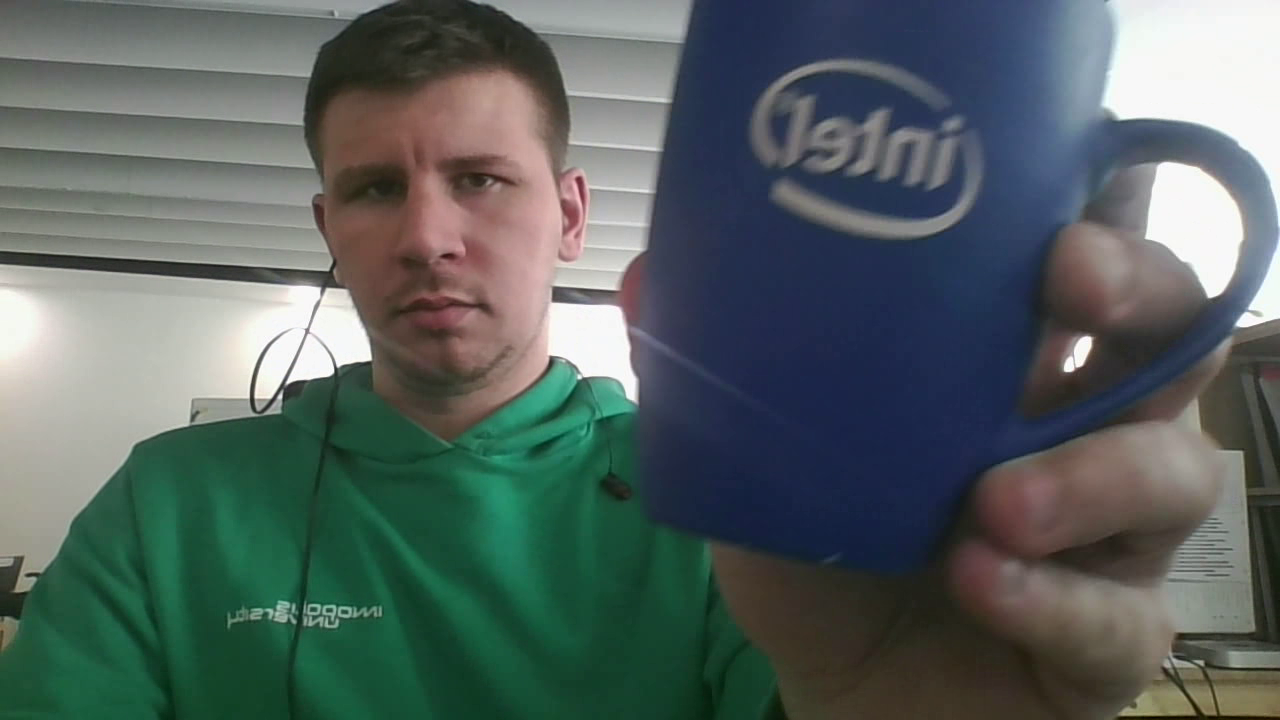cup: (639, 1, 1280, 583)
